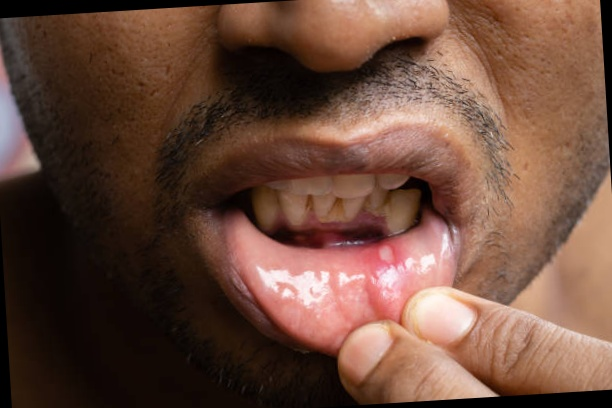Ulcer: (376, 244, 395, 267)
